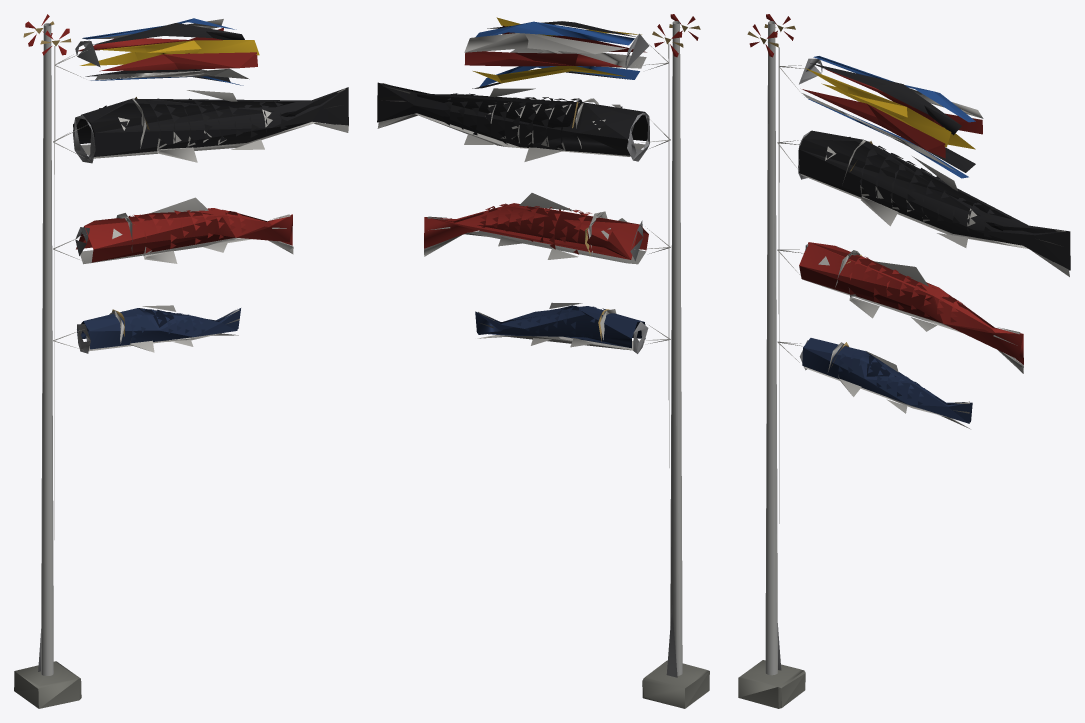
The model's file is SM_Koinobori.glb.
3 views of the same model, side by side, from view 1: azimuth 30°, elevation 25°; view 2: azimuth 150°, elevation 25°; view 3: azimuth 330°, elevation 25° (orthographic).
Visible parts, largest first — view 1: SM_Koinobori; view 2: SM_Koinobori; view 3: SM_Koinobori.
Boxes of the visible parts, <box> form: SM_Koinobori: <box>14,14,348,708</box>; SM_Koinobori: <box>377,14,709,708</box>; SM_Koinobori: <box>738,14,1070,708</box>.
Bounding box in the file's own units: 4.39 × 8.81 × 0.8958.
